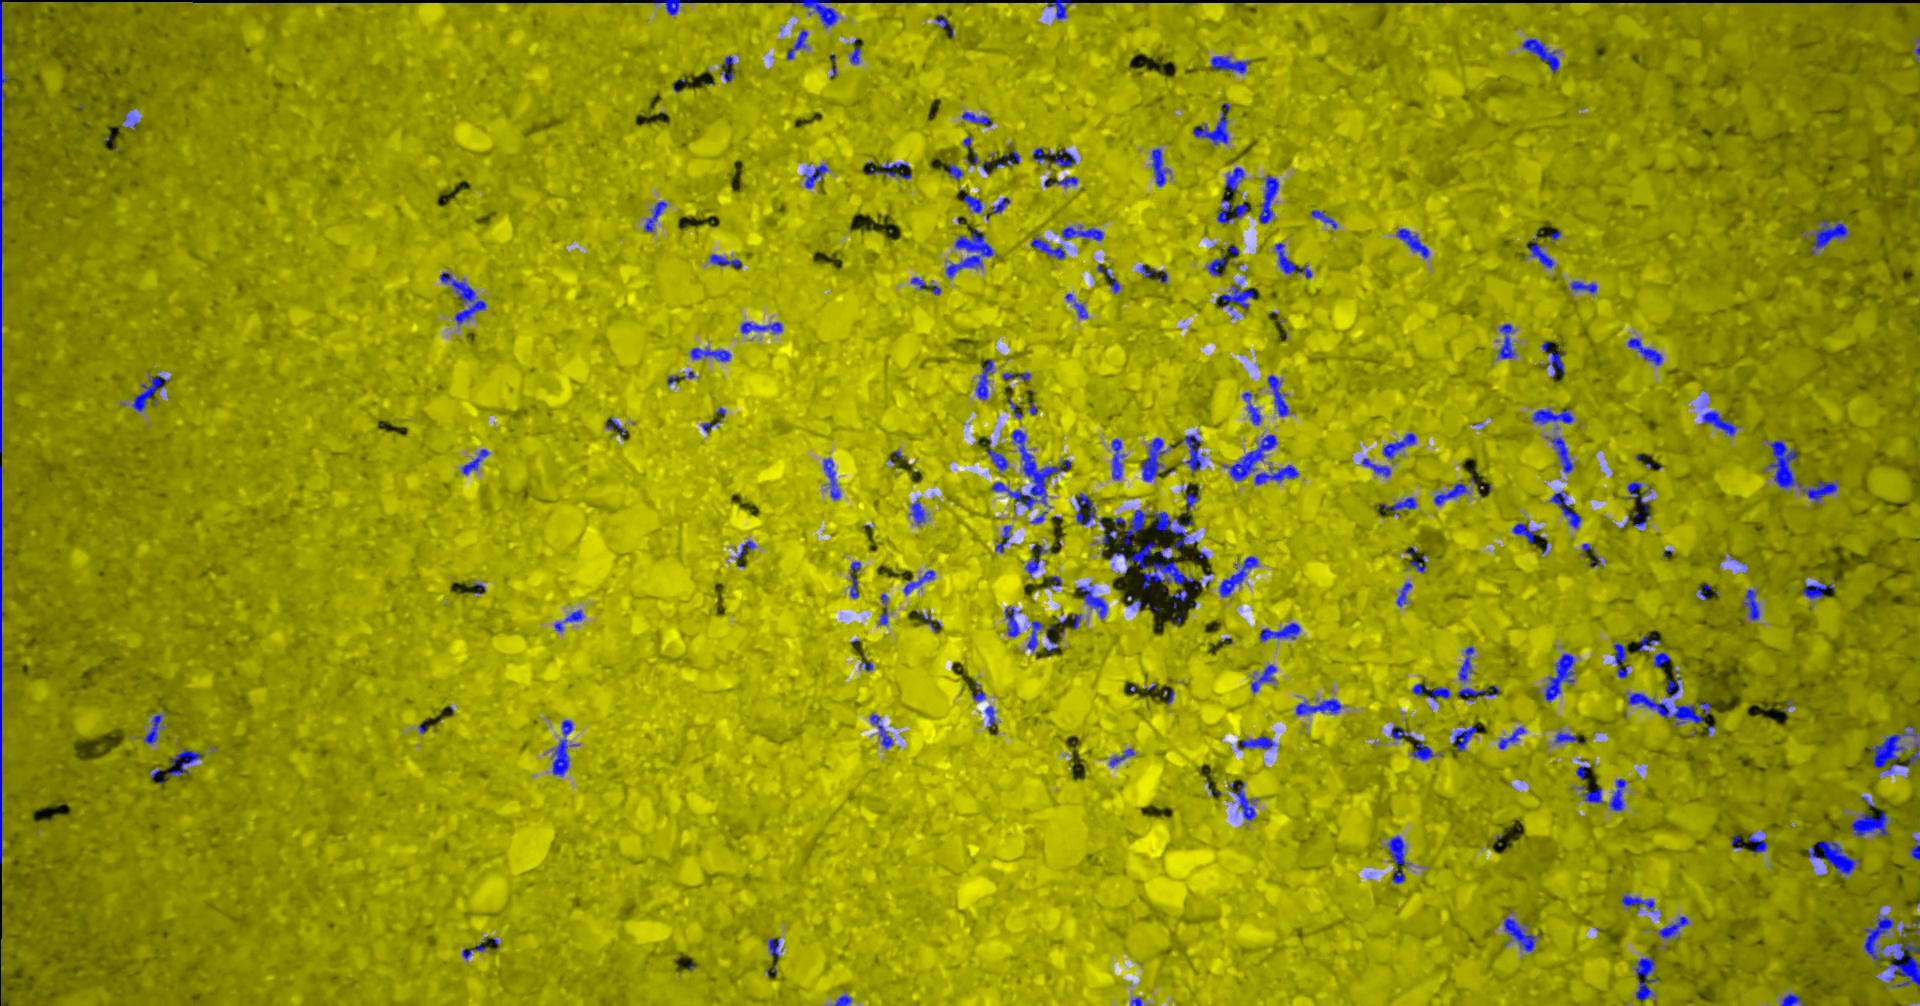ant: (1, 0, 11, 453), (441, 272, 488, 324), (1629, 692, 1705, 724), (1225, 434, 1277, 480), (947, 230, 996, 277), (1873, 725, 1920, 774), (1810, 840, 1862, 876), (1154, 511, 1199, 551), (1101, 509, 1148, 545), (1194, 102, 1230, 144), (1769, 439, 1801, 488), (1888, 937, 1920, 986), (1545, 653, 1576, 701), (554, 719, 579, 776), (1222, 556, 1258, 596), (1865, 915, 1895, 962), (133, 375, 170, 412), (1276, 243, 1313, 278), (1524, 38, 1561, 72), (795, 0, 841, 27), (1550, 490, 1583, 527), (1142, 437, 1167, 481), (1505, 917, 1537, 951), (1627, 481, 1651, 526), (1397, 227, 1431, 258), (1079, 583, 1109, 619), (1, 464, 4, 862), (1232, 781, 1257, 821), (1636, 956, 1658, 1000), (1260, 175, 1280, 224), (1851, 810, 1890, 836), (1815, 220, 1849, 248), (1629, 337, 1663, 365), (1255, 464, 1300, 484), (1528, 234, 1556, 267), (1389, 835, 1408, 883), (1269, 375, 1290, 417), (1384, 432, 1417, 459), (170, 749, 204, 775), (1552, 436, 1575, 473), (1222, 285, 1255, 310), (1704, 410, 1738, 434), (1803, 480, 1837, 504), (1435, 481, 1469, 506), (1543, 340, 1566, 376), (871, 713, 894, 748), (977, 358, 996, 399), (905, 569, 936, 594), (987, 437, 1010, 470), (1297, 699, 1342, 715), (1183, 434, 1204, 471), (1032, 238, 1067, 259), (1211, 55, 1252, 72), (1261, 622, 1302, 640), (1252, 664, 1277, 692), (1153, 149, 1172, 185), (1098, 263, 1121, 293), (1026, 545, 1049, 575), (869, 163, 913, 178), (1498, 323, 1517, 358), (463, 448, 490, 474), (1383, 495, 1418, 514), (825, 459, 842, 499), (1077, 492, 1097, 525), (556, 608, 585, 631), (646, 201, 668, 231), (1415, 683, 1451, 701), (1454, 725, 1479, 751), (1459, 685, 1501, 700), (1660, 916, 1689, 937), (1534, 408, 1575, 423), (805, 164, 830, 188), (1803, 580, 1835, 600), (789, 29, 809, 58), (1244, 391, 1262, 424), (1063, 226, 1105, 240), (1065, 293, 1090, 318), (1500, 727, 1526, 748), (1112, 438, 1126, 479), (1225, 166, 1244, 196), (145, 714, 164, 743), (692, 347, 731, 361), (1623, 894, 1656, 911), (1514, 523, 1540, 544), (1743, 589, 1761, 620), (1615, 643, 1630, 678), (1239, 735, 1277, 749), (1610, 779, 1627, 810), (1460, 647, 1476, 681), (1363, 459, 1392, 476), (1407, 546, 1427, 572), (912, 277, 942, 293), (1006, 606, 1022, 636), (1029, 620, 1045, 650), (655, 0, 691, 14), (1049, 149, 1077, 166), (1048, 0, 1073, 19), (742, 321, 783, 333), (1312, 210, 1338, 227), (1110, 748, 1137, 766), (1208, 255, 1230, 276), (1412, 739, 1435, 760), (997, 525, 1013, 553), (463, 939, 488, 958), (963, 111, 992, 126), (1749, 832, 1769, 854), (1218, 199, 1236, 224), (851, 561, 862, 598), (936, 14, 954, 37), (1055, 614, 1082, 629), (1397, 582, 1413, 606), (711, 254, 742, 267), (607, 417, 629, 434), (998, 150, 1021, 166), (1581, 785, 1604, 801), (1556, 730, 1585, 743), (1186, 485, 1201, 509), (910, 500, 926, 525), (1639, 634, 1660, 652), (723, 55, 735, 83), (1045, 177, 1079, 187), (1128, 594, 1150, 610), (964, 194, 983, 212), (738, 540, 757, 558), (1392, 725, 1416, 739), (1572, 279, 1597, 292), (924, 614, 942, 631), (1655, 652, 1672, 669), (1667, 677, 1683, 697), (946, 163, 964, 179), (993, 197, 1011, 213), (880, 593, 889, 624), (1782, 993, 1804, 1005), (973, 682, 985, 701), (987, 705, 997, 728), (770, 937, 781, 956), (1236, 202, 1250, 217), (1004, 372, 1032, 380), (1034, 147, 1046, 163), (1700, 583, 1712, 600), (836, 995, 853, 1005), (851, 47, 861, 64), (1912, 840, 1920, 860)
